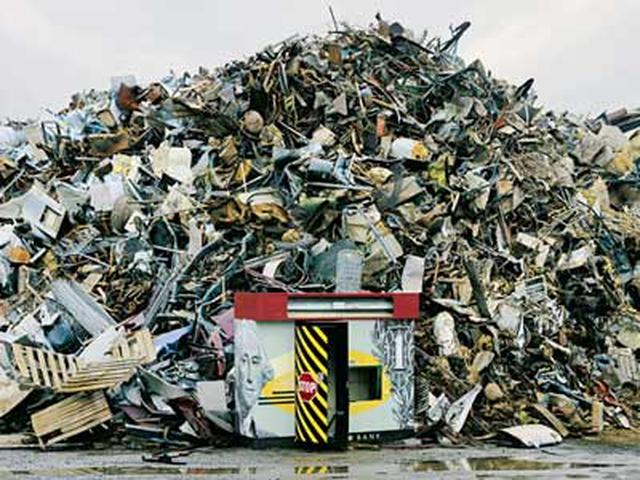garbage: (57, 106, 612, 273), (16, 276, 230, 424), (248, 61, 465, 203), (432, 274, 630, 422)
